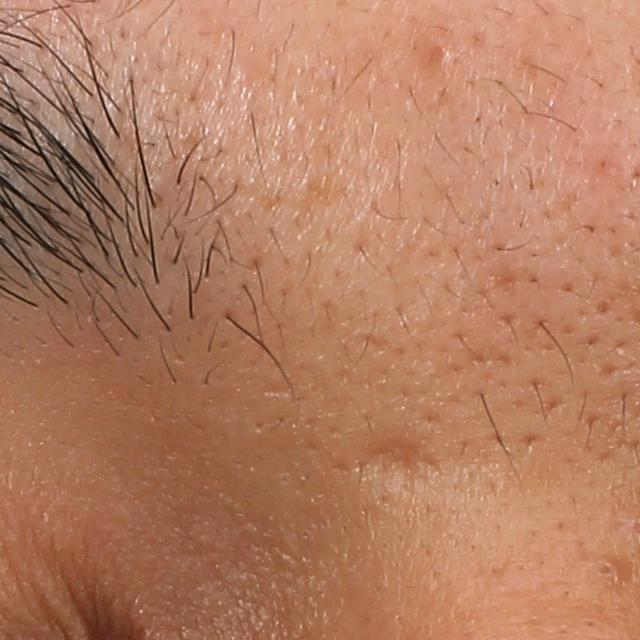atrophic_scar: (354, 430, 441, 484)
comedo: (423, 41, 457, 70), (589, 556, 623, 585)
